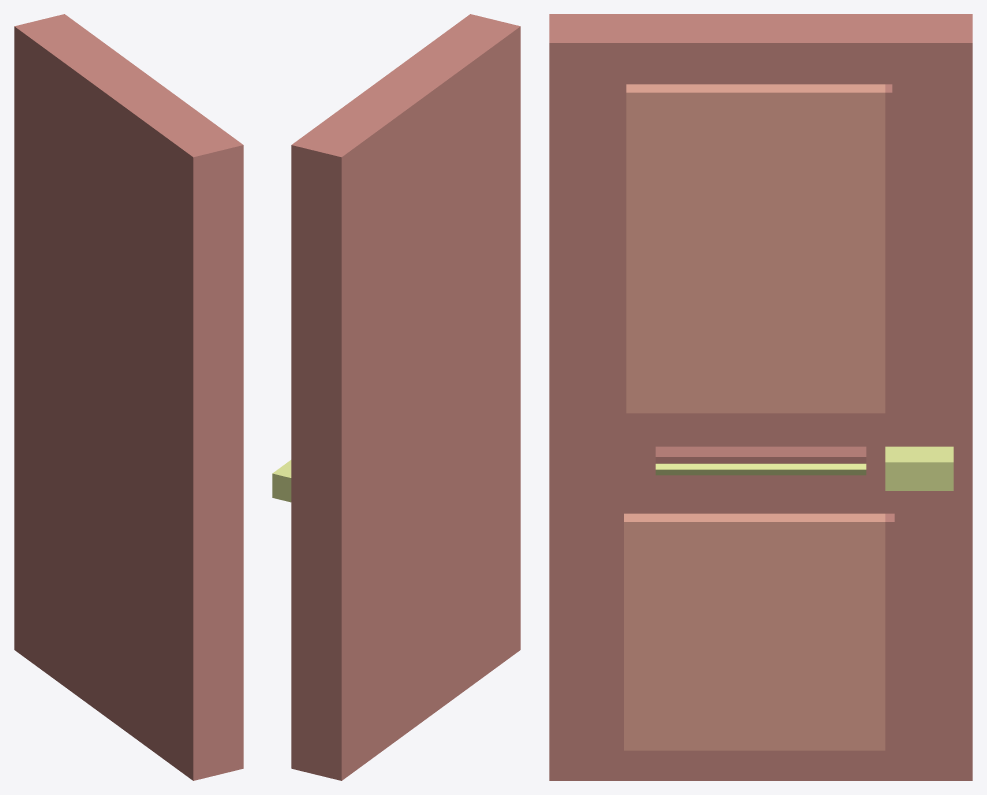
File: Door.fbx
3 views of the same model, side by side, from view 1: azimuth 30°, elevation 25°; view 2: azimuth 150°, elevation 25°; view 3: azimuth 270°, elevation 25° (orthographic). The views are drawn at different scales.
Parts seen in each view (by area): view 1: Door; view 2: Door; view 3: Door.
Boxes of the visible parts, left/top/right/bottom form: Door: left=14, top=14, right=243, bottom=780; Door: left=272, top=14, right=520, bottom=780; Door: left=549, top=14, right=972, bottom=780.
Bounding box in the file's own units: 14.05 × 105 × 54.54.
